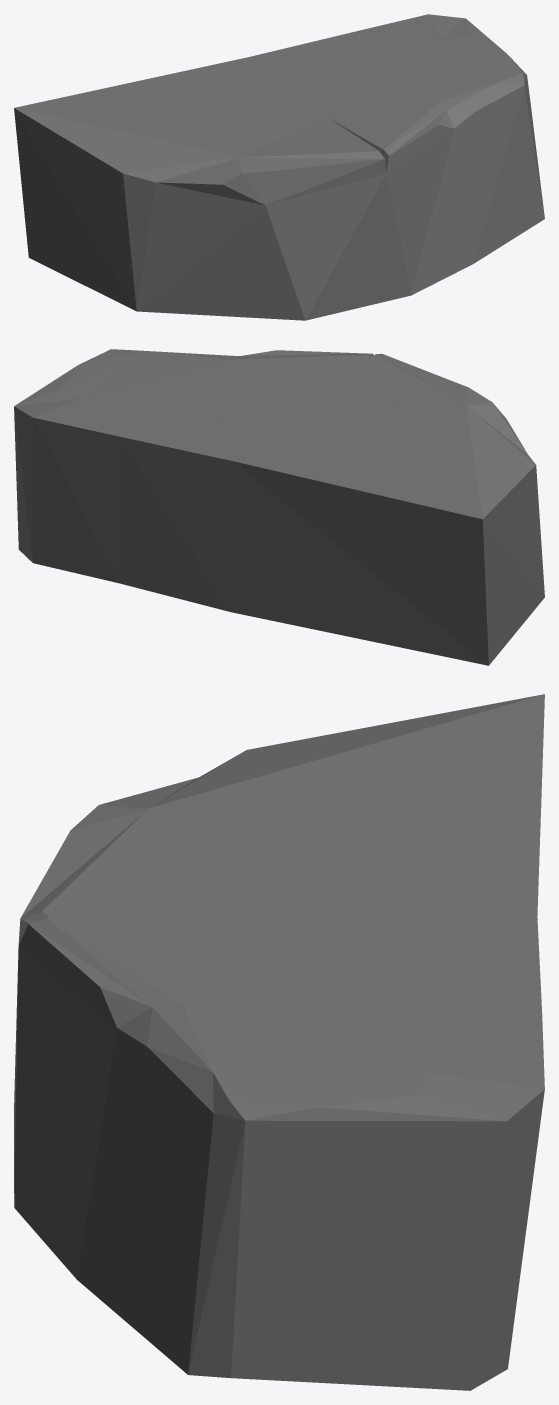
Rendered from rock_014.glb.
3 renders of one model, top to bottom at view 1: azimuth 30°, elevation 25°; view 2: azimuth 150°, elevation 25°; view 3: azimuth 270°, elevation 25°, orthographic. The views are drawn at different scales.
Parts seen in each view (by area): view 1: rock_014; view 2: rock_014; view 3: rock_014.
Boxes of the visible parts, x1=… form: rock_014: x1=14, y1=14, x2=544, y2=320; rock_014: x1=14, y1=349, x2=544, y2=665; rock_014: x1=14, y1=694, x2=544, y2=1390.
Size of the model in its own units: 48.54 by 15.72 by 26.48.
Materials: 1 (1 with a texture image).
